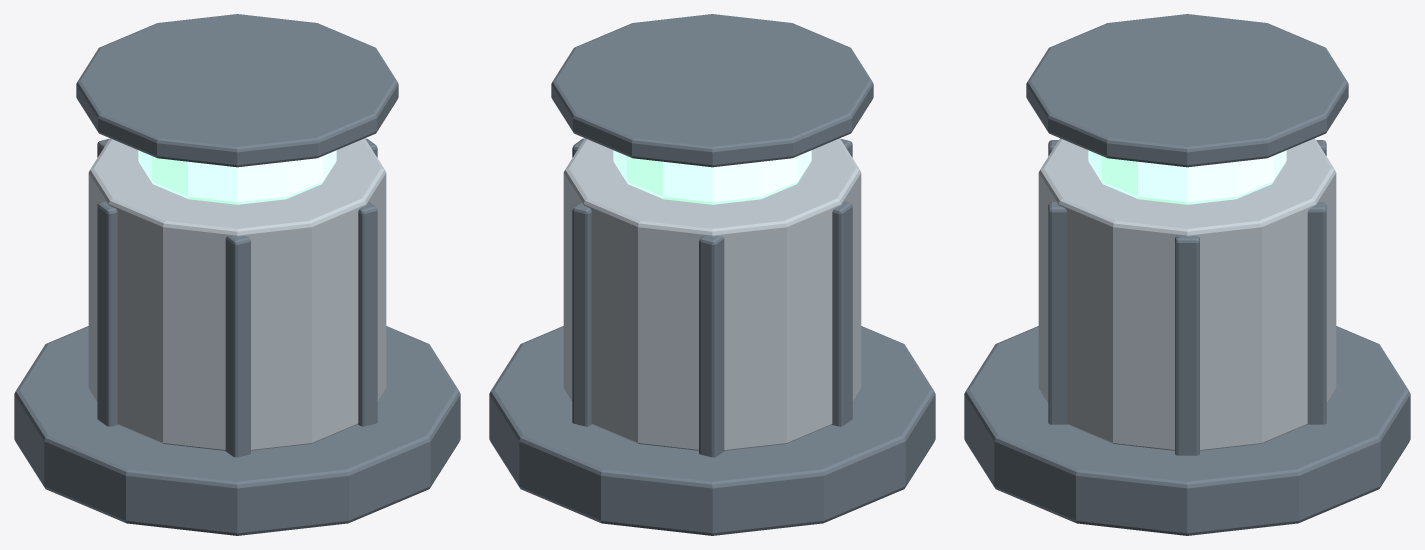
The model's file is golden_accumulator.glb.
3 renders of one model, left to right at view 1: azimuth 30°, elevation 25°; view 2: azimuth 150°, elevation 25°; view 3: azimuth 270°, elevation 25°, orthographic.
Visible parts, largest first — view 1: GS_Accumulator_Casing_SecondaryMetal, GS_Accumulator_Base_DarkMetal, GS_Accumulator_Top_DarkMetal, GS_Accumulator_Energy_EnergyGreen, GS_Accumulator_Rib4_DarkMetal, GS_Accumulator_Rib3_DarkMetal, GS_Accumulator_Rib5_DarkMetal; view 2: GS_Accumulator_Casing_SecondaryMetal, GS_Accumulator_Base_DarkMetal, GS_Accumulator_Top_DarkMetal, GS_Accumulator_Energy_EnergyGreen, GS_Accumulator_Rib2_DarkMetal, GS_Accumulator_Rib3_DarkMetal, GS_Accumulator_Rib1_DarkMetal; view 3: GS_Accumulator_Casing_SecondaryMetal, GS_Accumulator_Base_DarkMetal, GS_Accumulator_Top_DarkMetal, GS_Accumulator_Energy_EnergyGreen, GS_Accumulator_Rib0_DarkMetal, GS_Accumulator_Rib1_DarkMetal, GS_Accumulator_Rib5_DarkMetal.
Part boxes in pixels (box(x1,y1,x2,y2)): GS_Accumulator_Casing_SecondaryMetal: box(88, 138, 386, 450); GS_Accumulator_Base_DarkMetal: box(14, 326, 460, 535); GS_Accumulator_Top_DarkMetal: box(76, 14, 398, 167); GS_Accumulator_Energy_EnergyGreen: box(138, 150, 336, 204); GS_Accumulator_Rib4_DarkMetal: box(225, 236, 250, 457); GS_Accumulator_Rib3_DarkMetal: box(97, 201, 117, 426); GS_Accumulator_Rib5_DarkMetal: box(358, 202, 377, 426); GS_Accumulator_Casing_SecondaryMetal: box(563, 138, 861, 450); GS_Accumulator_Base_DarkMetal: box(489, 326, 935, 535); GS_Accumulator_Top_DarkMetal: box(551, 14, 873, 167); GS_Accumulator_Energy_EnergyGreen: box(613, 150, 811, 204); GS_Accumulator_Rib2_DarkMetal: box(699, 236, 724, 457); GS_Accumulator_Rib3_DarkMetal: box(832, 201, 852, 426); GS_Accumulator_Rib1_DarkMetal: box(572, 202, 591, 426); GS_Accumulator_Casing_SecondaryMetal: box(1038, 138, 1336, 450); GS_Accumulator_Base_DarkMetal: box(964, 326, 1410, 535); GS_Accumulator_Top_DarkMetal: box(1026, 14, 1348, 167); GS_Accumulator_Energy_EnergyGreen: box(1088, 150, 1286, 204); GS_Accumulator_Rib0_DarkMetal: box(1175, 235, 1199, 455); GS_Accumulator_Rib1_DarkMetal: box(1307, 202, 1326, 424); GS_Accumulator_Rib5_DarkMetal: box(1048, 202, 1067, 424).
Bounding box in the file's own units: 3.6 × 3.23 × 3.6.
